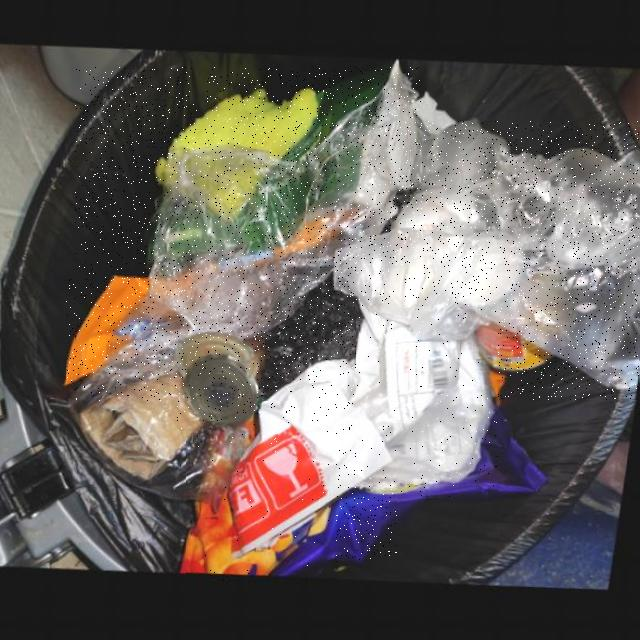metal: (178, 335, 262, 429), (475, 305, 557, 379)
plastic: (76, 67, 421, 401), (390, 121, 639, 400), (234, 362, 397, 562), (356, 307, 498, 497), (334, 236, 496, 346)
wrapper: (187, 421, 336, 580), (67, 277, 190, 387)
